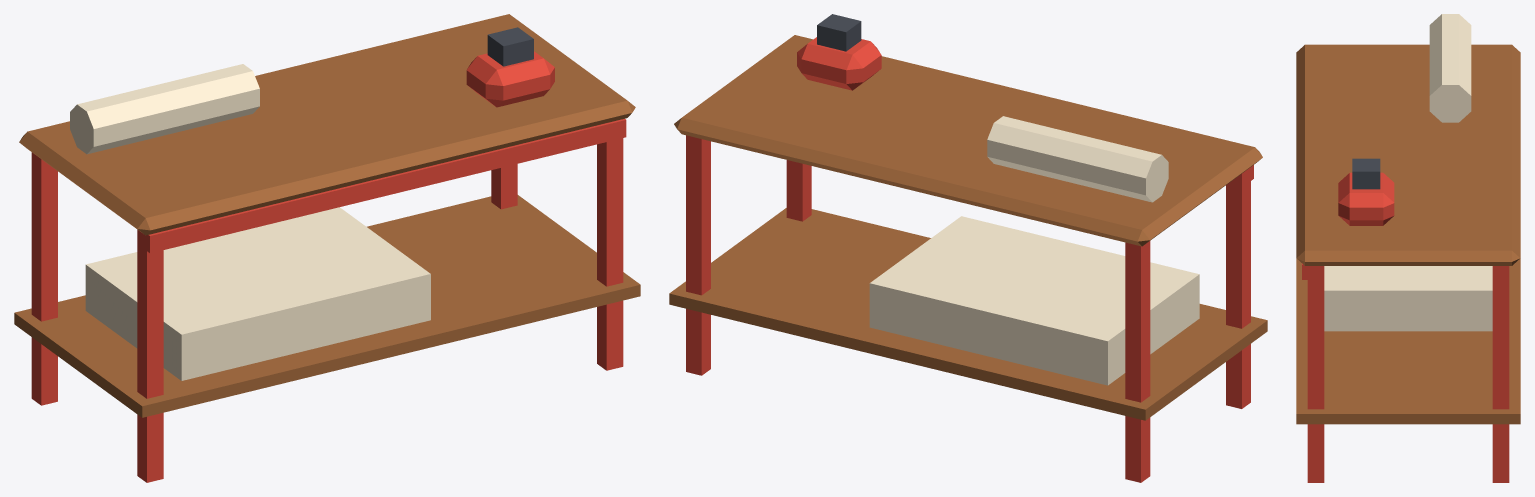
File: packing-bench.glb
3 renders of one model, left to right at view 1: azimuth 30°, elevation 25°; view 2: azimuth 150°, elevation 25°; view 3: azimuth 270°, elevation 25°, orthographic. The views are drawn at different scales.
Visible parts, largest first — view 1: packing_bench; view 2: packing_bench; view 3: packing_bench.
Part boxes in pixels (left/top/right/bottom): packing_bench: left=14, top=14, right=640, bottom=482; packing_bench: left=669, top=14, right=1267, bottom=482; packing_bench: left=1296, top=14, right=1520, bottom=482.
Size of the model in its own units: 1.8 by 1.12 by 0.8.
